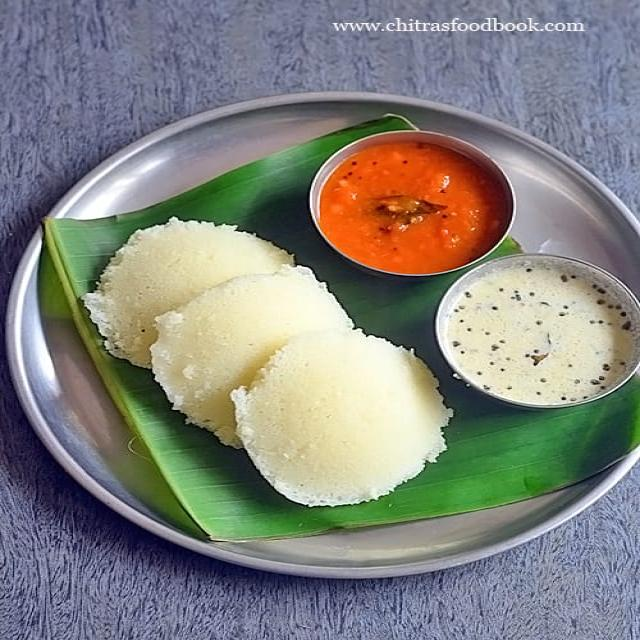rave idli: (218, 320, 451, 513), (133, 262, 354, 424), (77, 220, 305, 339)
